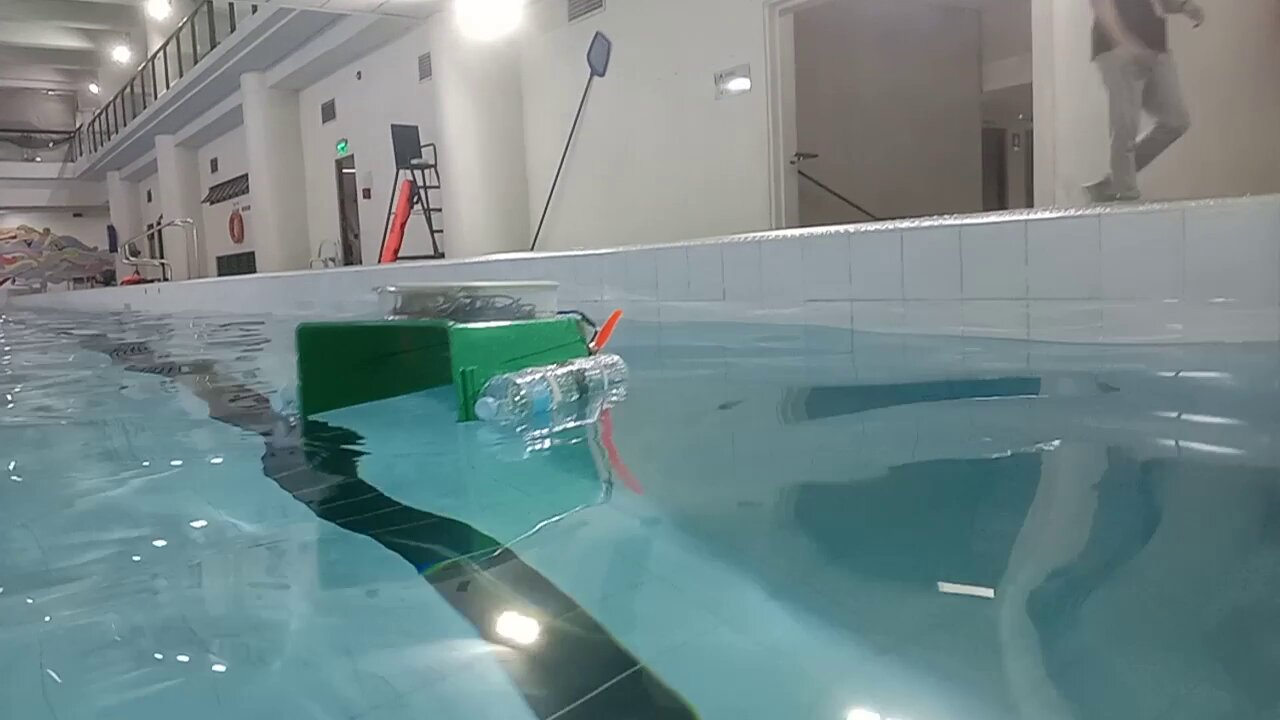drone: (269, 279, 631, 426)
